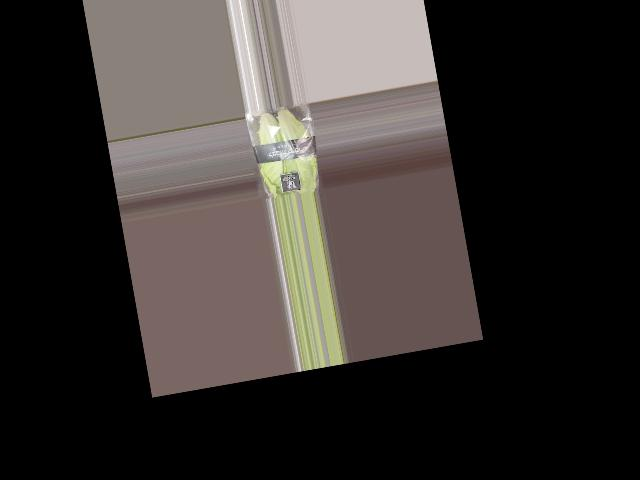lettuce: (244, 102, 320, 200)
